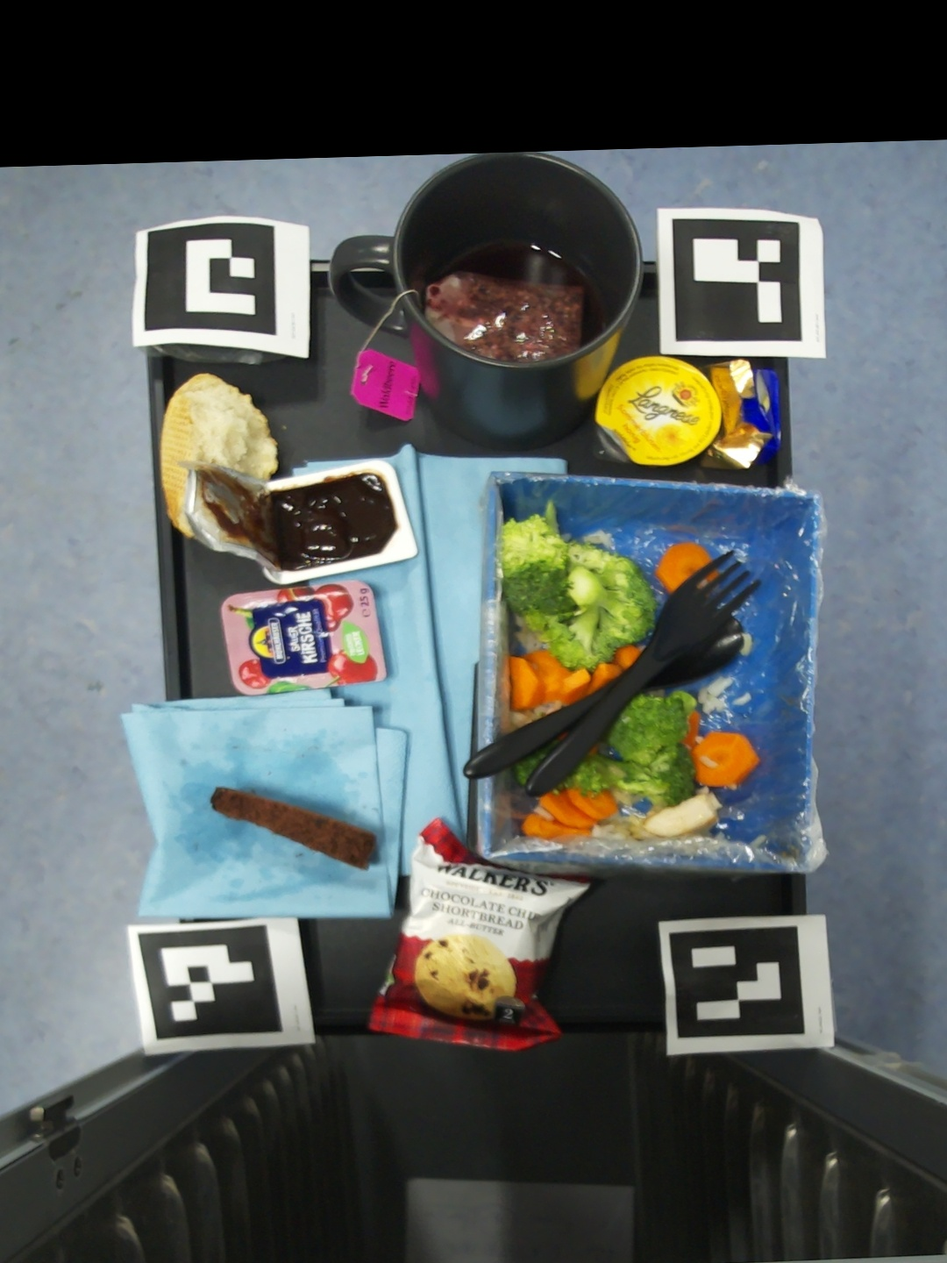bread_roll: (162, 373, 280, 537)
broccoli: (503, 500, 658, 669), (514, 689, 697, 806)
brownie: (211, 789, 376, 870)
butter: (701, 358, 781, 470)
carrots: (511, 646, 640, 710), (685, 711, 759, 788), (521, 792, 617, 838), (655, 541, 719, 598), (558, 731, 598, 760)
cherry_jam: (223, 579, 389, 691)
chicken: (644, 794, 718, 838)
cookie: (371, 818, 595, 1055)
honey: (593, 356, 721, 464)
plum_jam: (182, 459, 420, 584)
rice: (591, 810, 658, 840), (511, 700, 565, 732), (514, 615, 550, 653), (698, 677, 733, 715), (695, 782, 723, 810), (609, 787, 644, 807), (691, 573, 723, 593), (583, 529, 613, 548), (694, 824, 725, 840), (532, 805, 555, 821), (739, 632, 752, 656), (732, 692, 752, 705), (647, 805, 665, 819), (700, 757, 720, 769), (750, 835, 767, 848), (523, 794, 541, 806), (606, 766, 624, 778), (561, 532, 571, 542), (695, 736, 703, 746), (637, 645, 646, 653), (728, 784, 737, 791), (685, 745, 692, 752), (724, 786, 727, 789)
tea_cup: (329, 152, 644, 450)
